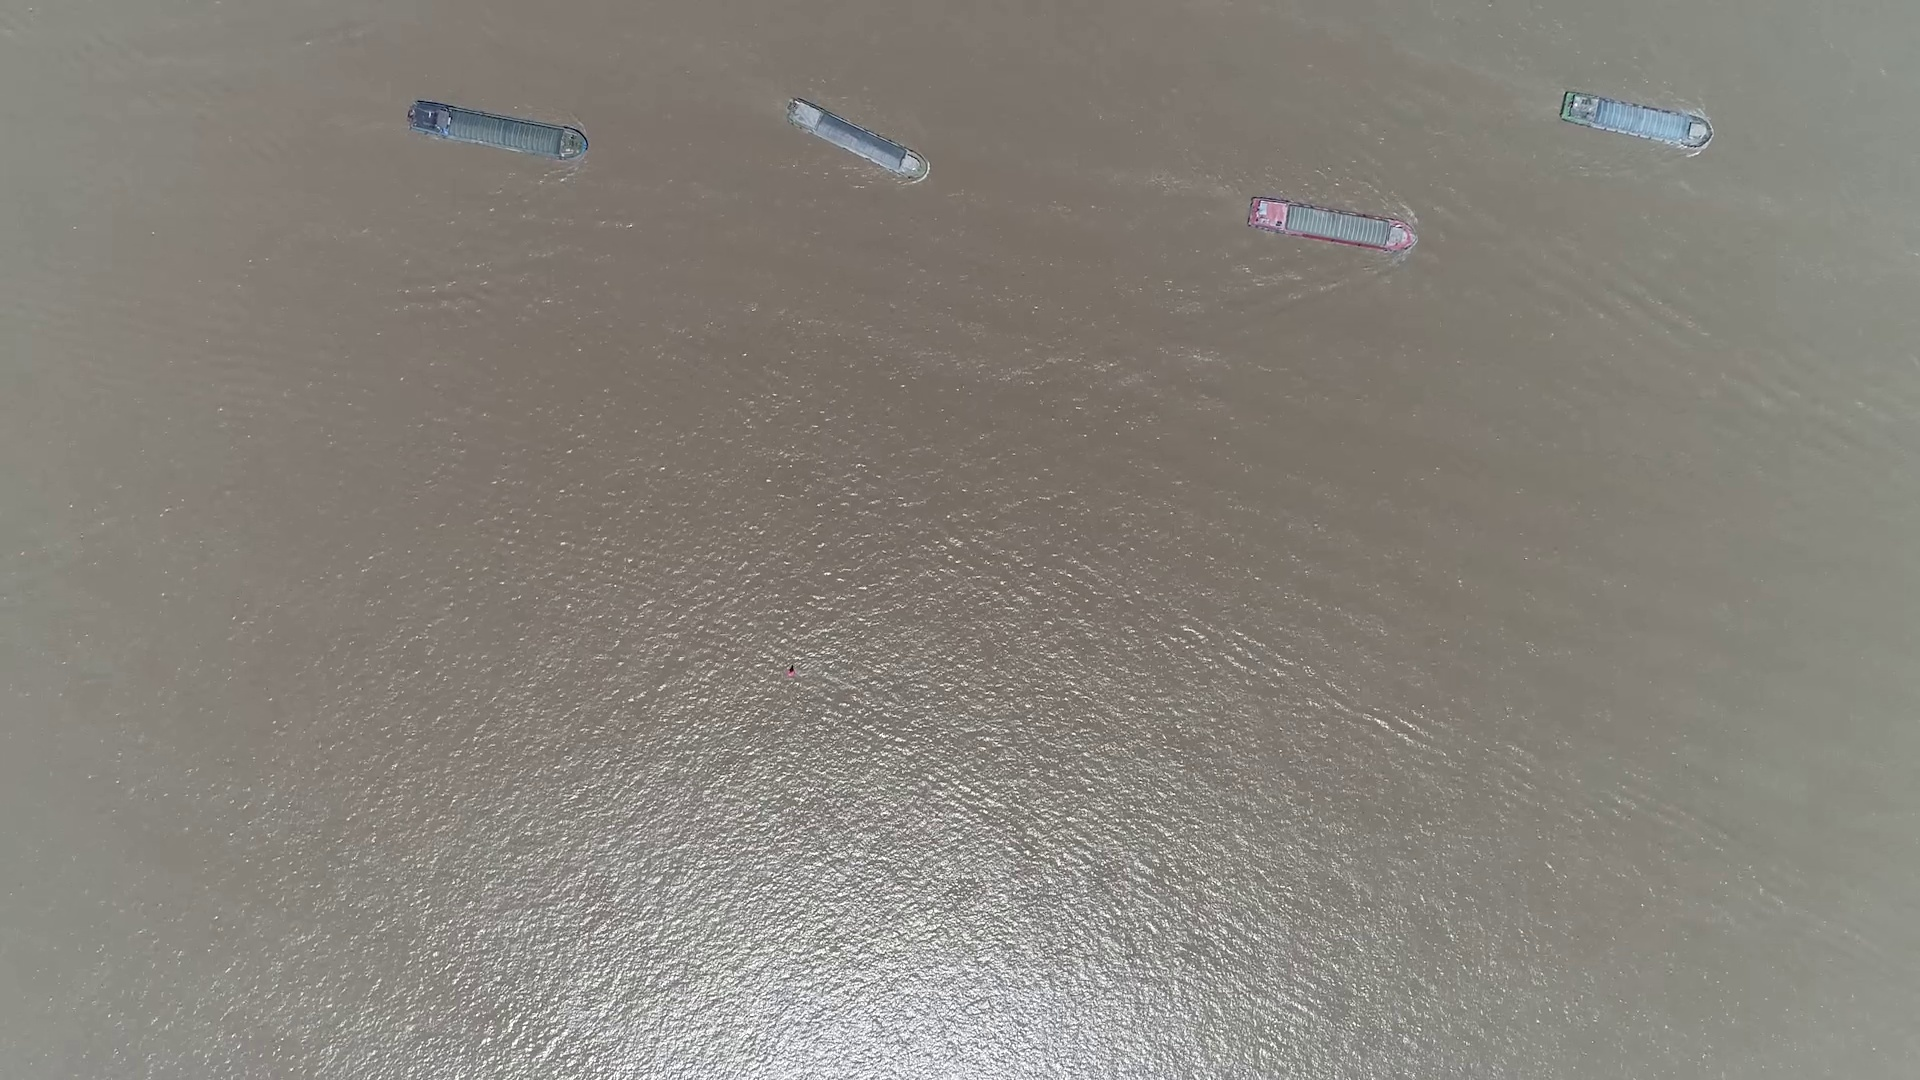ship: (785, 102, 926, 179), (407, 100, 587, 161), (1245, 196, 1415, 255), (1557, 94, 1712, 146)
